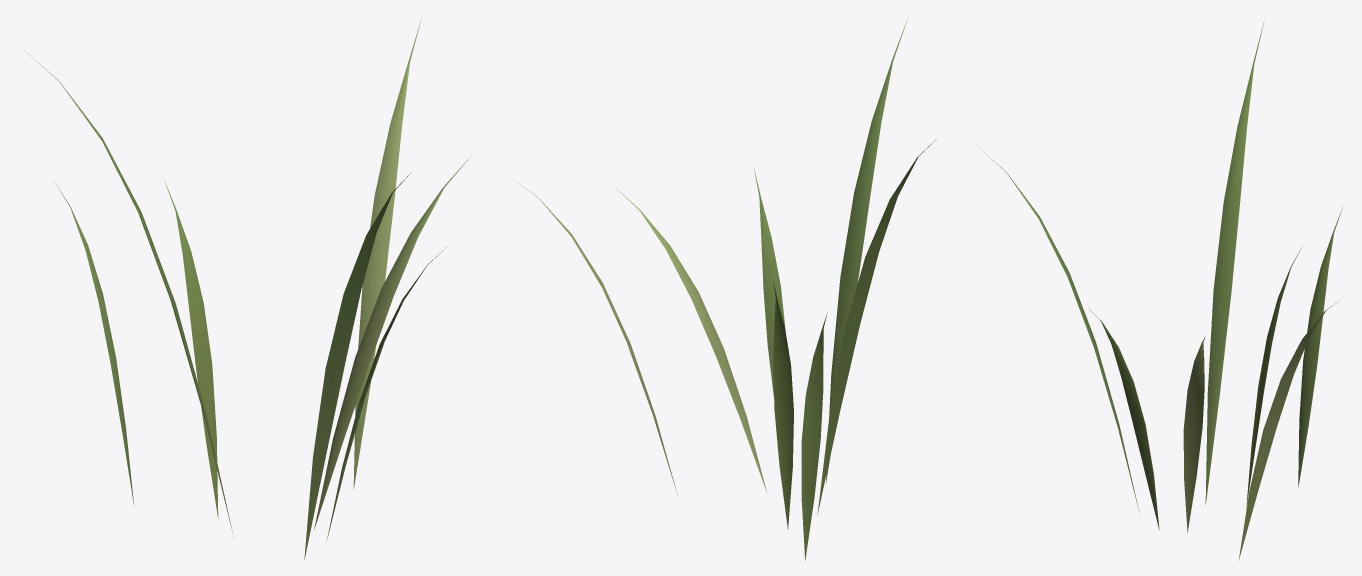
Rendered from tall_grass_LOD2.glb.
3 renders of one model, left to right at view 1: azimuth 30°, elevation 25°; view 2: azimuth 150°, elevation 25°; view 3: azimuth 270°, elevation 25°, orthographic. The views are drawn at different scales.
Visible parts, largest first — view 1: tall_grass_LOD2; view 2: tall_grass_LOD2; view 3: tall_grass_LOD2.
Boxes of the visible parts, <box> form: tall_grass_LOD2: <box>22,18,472,560</box>; tall_grass_LOD2: <box>511,19,936,560</box>; tall_grass_LOD2: <box>980,18,1342,560</box>.
Bounding box in the file's own units: 1.1 × 1.19 × 0.9613.
